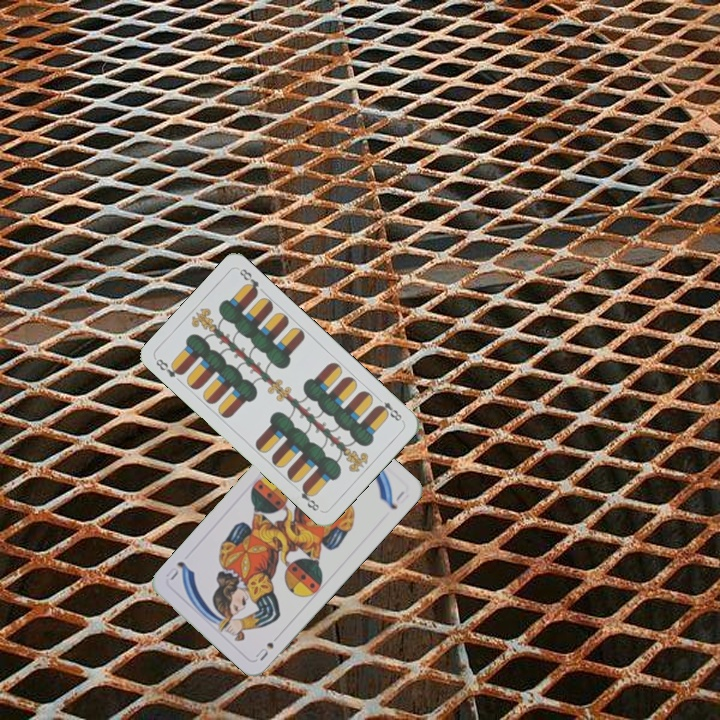E8: (373, 393, 406, 424), (152, 354, 186, 380)
SU: (251, 638, 276, 663)
